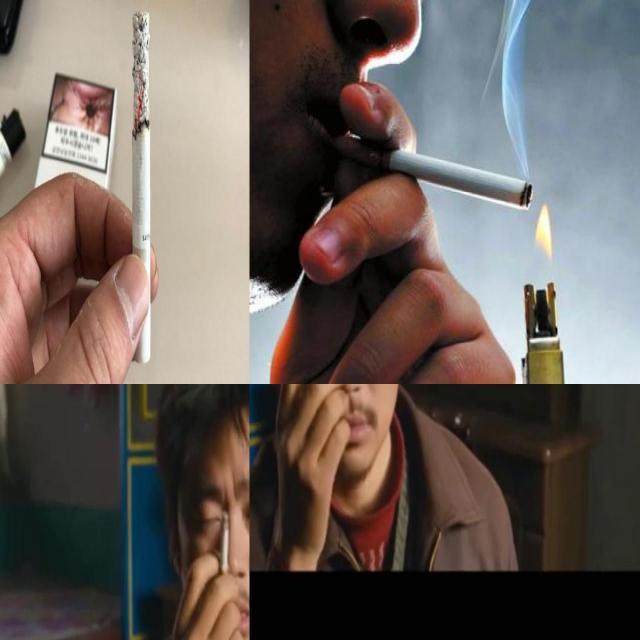cigarette: (333, 133, 534, 210), (131, 11, 151, 364), (218, 511, 232, 574)
